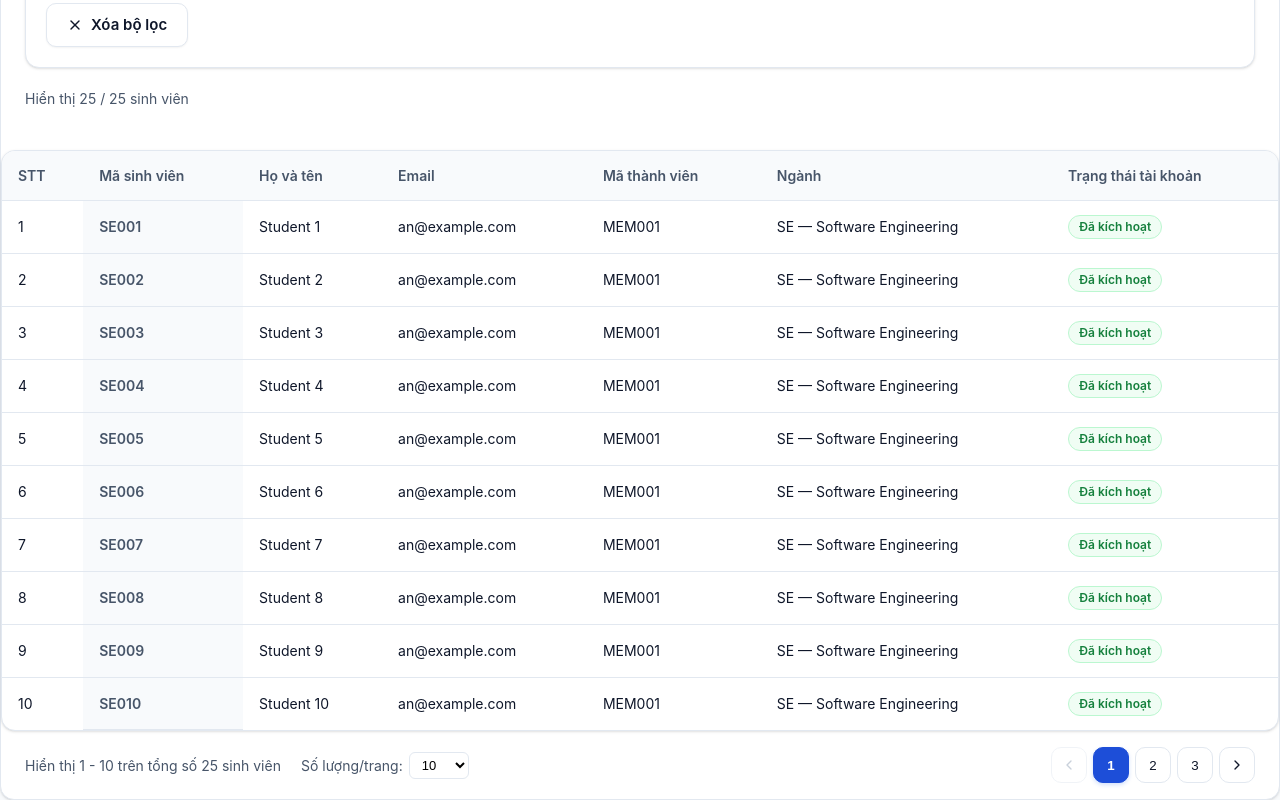
Scenario: Class student roster › paginates the class roster and returns to the first page after filtering or resizing
The image size is (1280, 800).
(page scrolled)
Expected: the text "Student 1" is shown, [243, 200, 382, 254]
Expected: the text "Student 11" is not shown
Click the button named "Trang sau" at x=1237, y=766, box [1219, 748, 1255, 784]
(page scrolled)
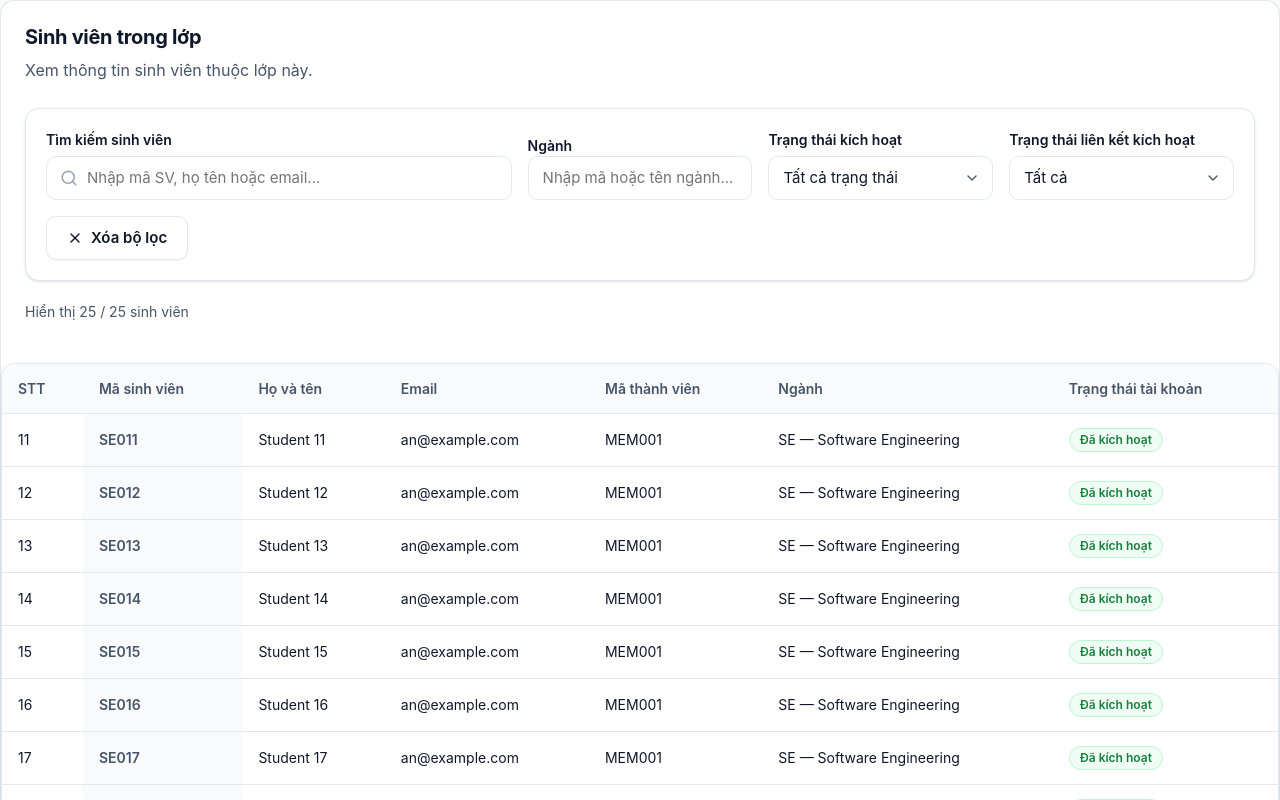
Now the text "Student 11" is shown, box [242, 414, 385, 466]
Type "SE001" into the field labelled "Tìm kiếm sinh viên" at x=279, y=178, box [46, 156, 512, 200]
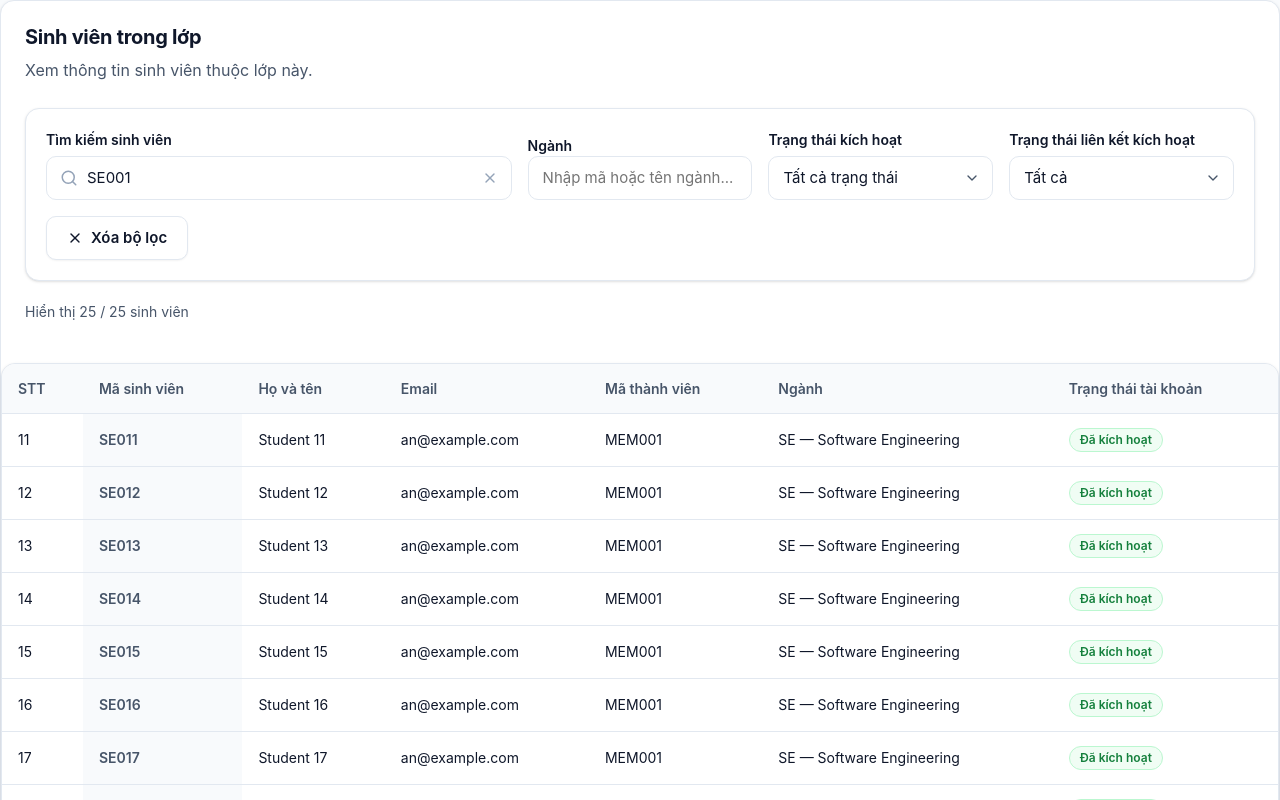
Press Enter in the field labelled "Tìm kiếm sinh viên", box [46, 156, 512, 200]
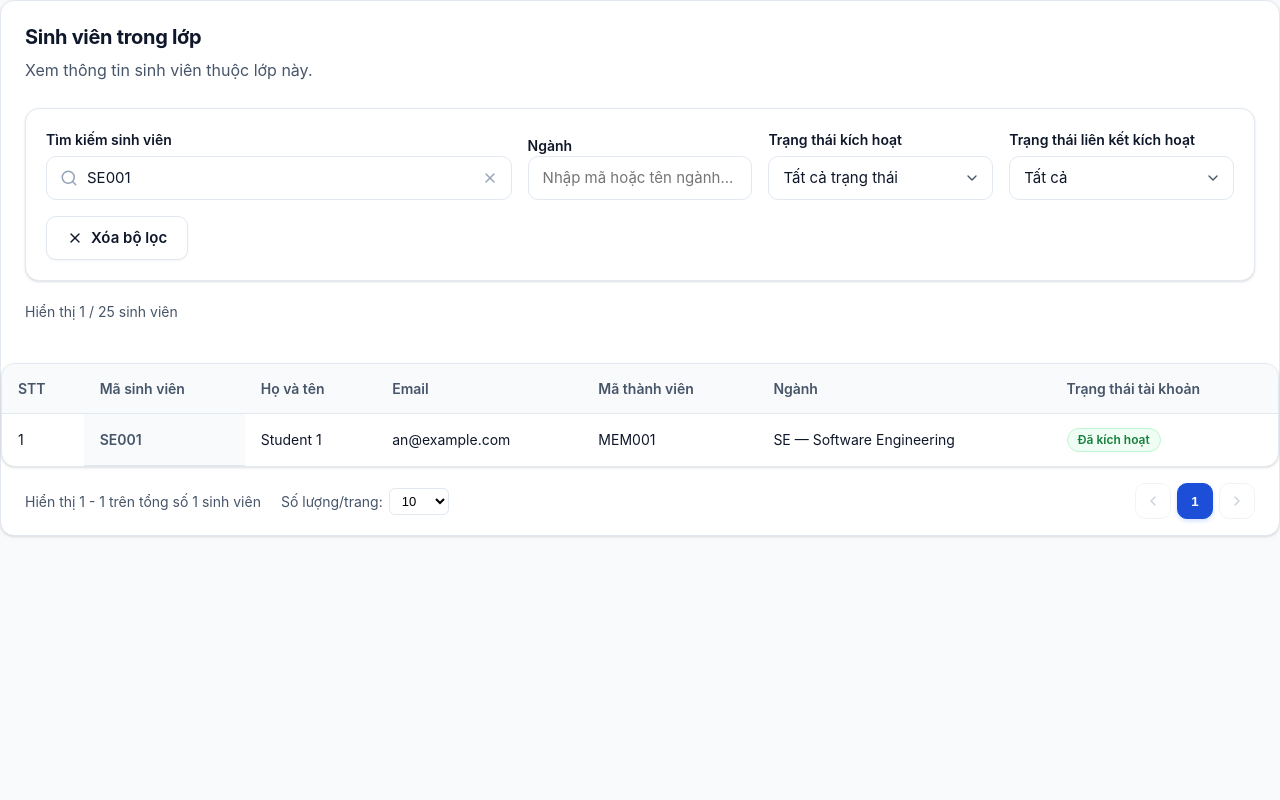
Expected: the text "Student 1" is shown, [245, 414, 376, 466]
Now the button "1" is marked as current, box [1177, 484, 1213, 520]
Click the button "Xóa bộ lọc" at x=117, y=238, box [46, 216, 188, 260]
(page scrolled)
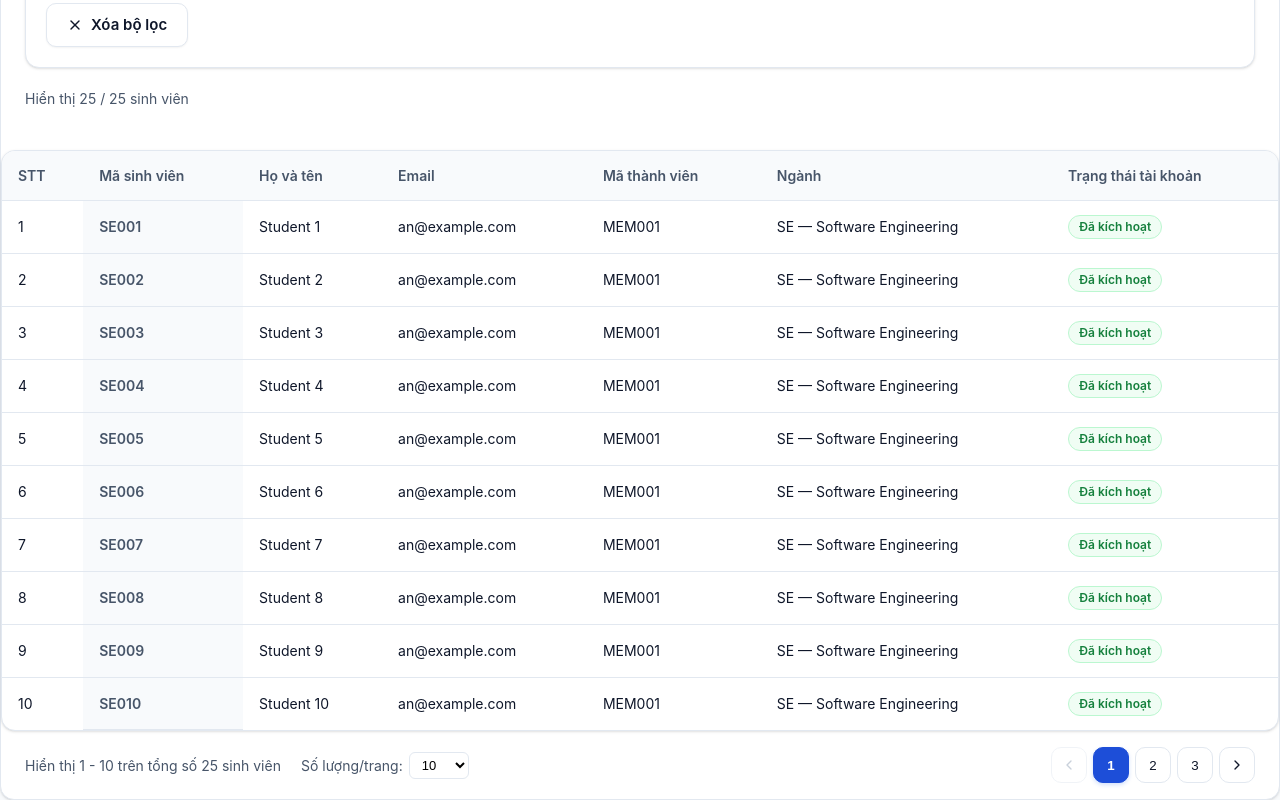
Select "20" in the dropdown labelled "Số lượng/trang:" at x=439, y=766, box [409, 752, 469, 779]
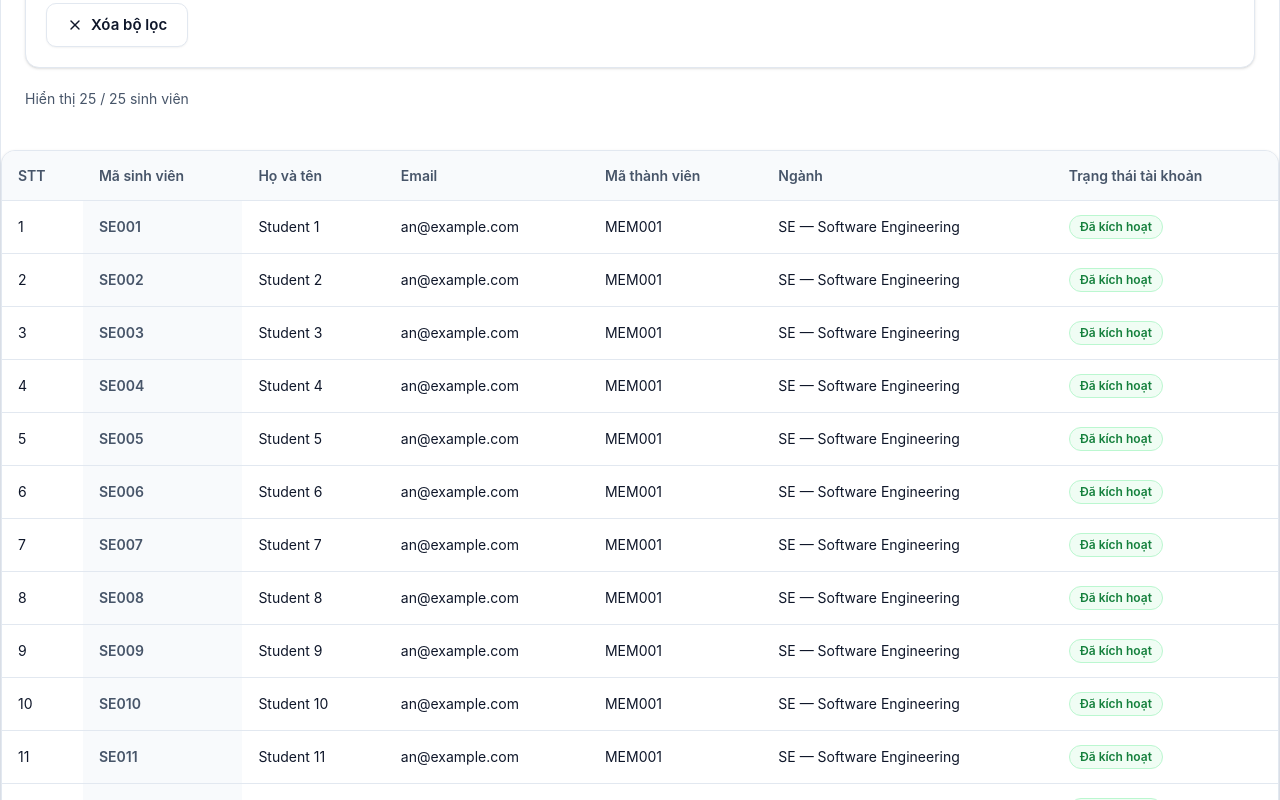
Now the number of rows is 21
